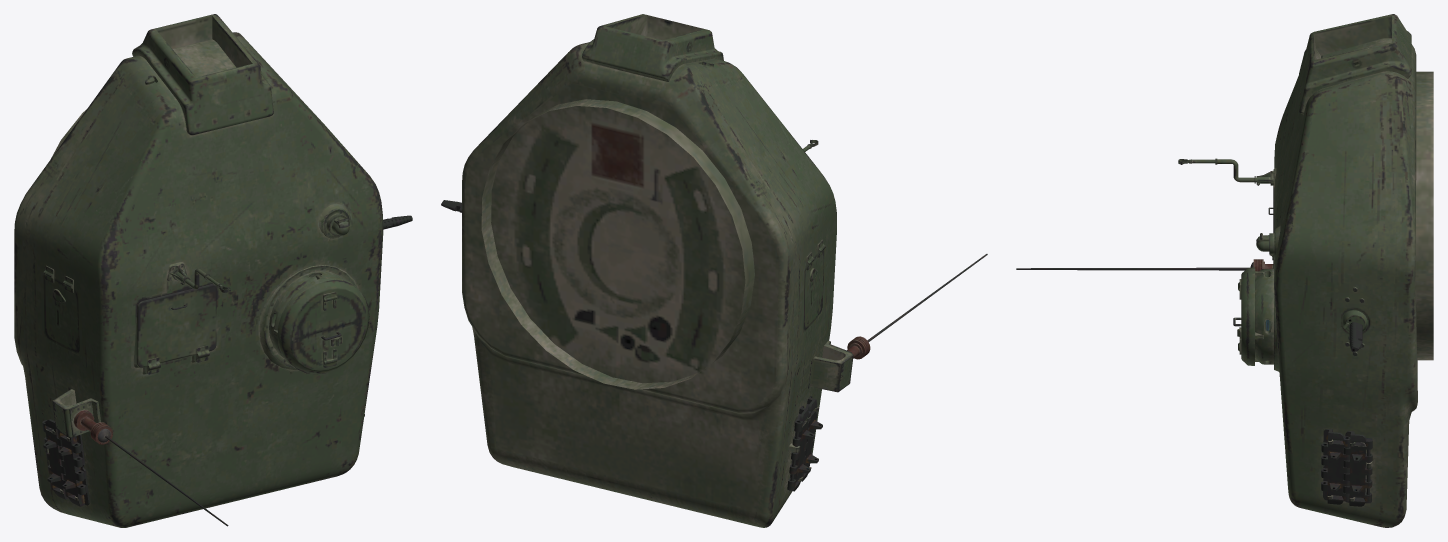
File: Turret_02.glb
The picture shows the model from 3 angles, left to right: view 1: azimuth 30°, elevation 25°; view 2: azimuth 150°, elevation 25°; view 3: azimuth 270°, elevation 25°; orthographic projection. The views are drawn at different scales.
Parts seen in each view (by area): view 1: set_0_group_0; view 2: set_0_group_0; view 3: set_0_group_0.
Part boxes in pixels (left/top/right/bottom): set_0_group_0: left=14, top=14, right=412, bottom=527; set_0_group_0: left=441, top=14, right=987, bottom=527; set_0_group_0: left=1016, top=14, right=1433, bottom=527.
Bounding box in the file's own units: 2.99 × 3.49 × 2.99.
Materials: 1 (1 with a texture image).
